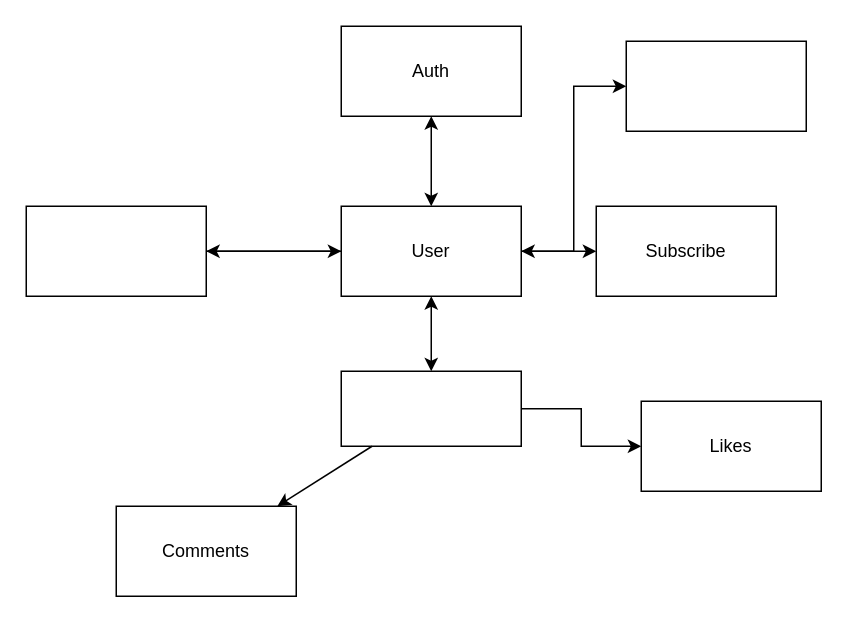
Some shapes in this 848 by 623 pixel diagram are drawn without their labels. The box of each missing label's shape, as (x1, y1, x2, y2) in pixels:
Newsline: (25, 205, 206, 296)
Posts: (340, 370, 521, 446)
Sendler: (625, 40, 806, 131)
